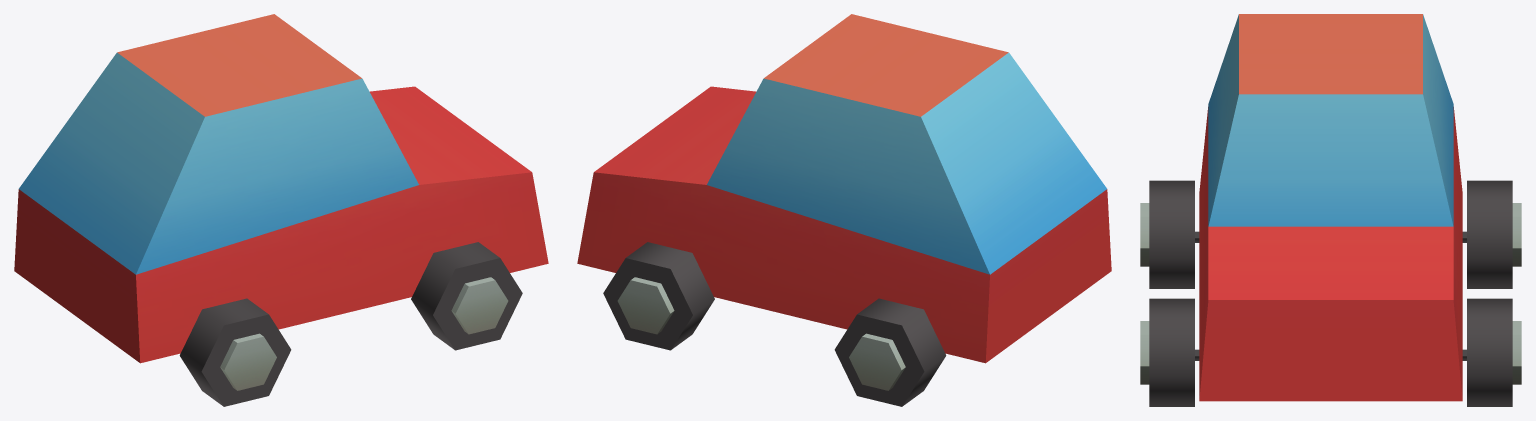
The model's file is SM_Car_03.fbx.
3 views of the same model, side by side, from view 1: azimuth 30°, elevation 25°; view 2: azimuth 150°, elevation 25°; view 3: azimuth 270°, elevation 25° (orthographic). The views are drawn at different scales.
Visible parts, largest first — view 1: M_Car_3; view 2: M_Car_3; view 3: M_Car_3.
Boxes of the visible parts, x1=… form: M_Car_3: x1=14, y1=14, x2=548, y2=406; M_Car_3: x1=577, y1=14, x2=1111, y2=406; M_Car_3: x1=1140, y1=14, x2=1521, y2=406.
Size of the model in its own units: 27.93 by 16.52 by 21.61.
